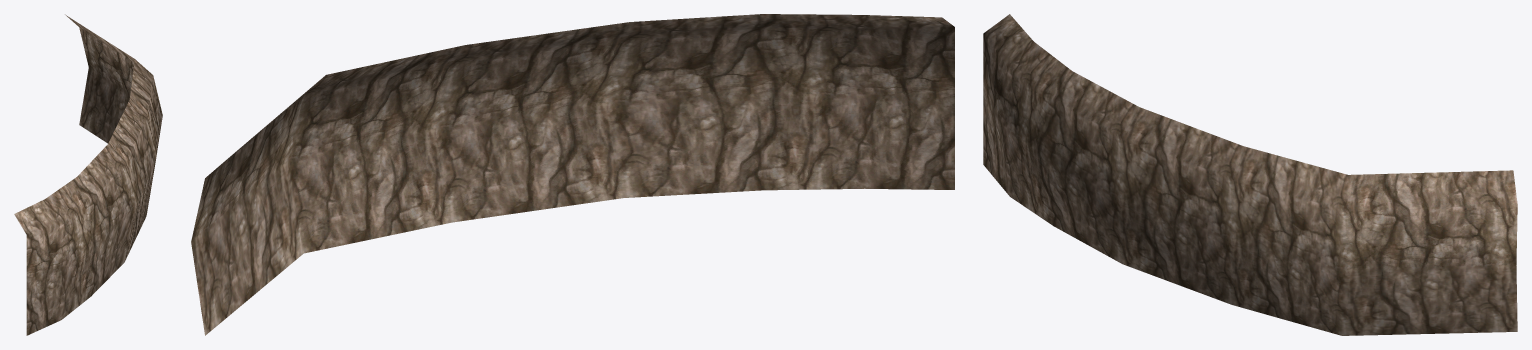
File: OVERHILL_A_01_OBJECT147.fbx
3 renders of one model, left to right at view 1: azimuth 30°, elevation 25°; view 2: azimuth 150°, elevation 25°; view 3: azimuth 270°, elevation 25°, orthographic. The views are drawn at different scales.
Visible parts, largest first — view 1: OVERHILL_A_01_OBJECT147; view 2: OVERHILL_A_01_OBJECT147; view 3: OVERHILL_A_01_OBJECT147.
Boxes of the visible parts, x1,y1,x2,y2 form: OVERHILL_A_01_OBJECT147: (14, 14, 162, 335); OVERHILL_A_01_OBJECT147: (191, 14, 954, 335); OVERHILL_A_01_OBJECT147: (983, 14, 1517, 335).
Size of the model in its own units: 235977 by 96037 by 304495.
Materials: 1 (1 with a texture image).
